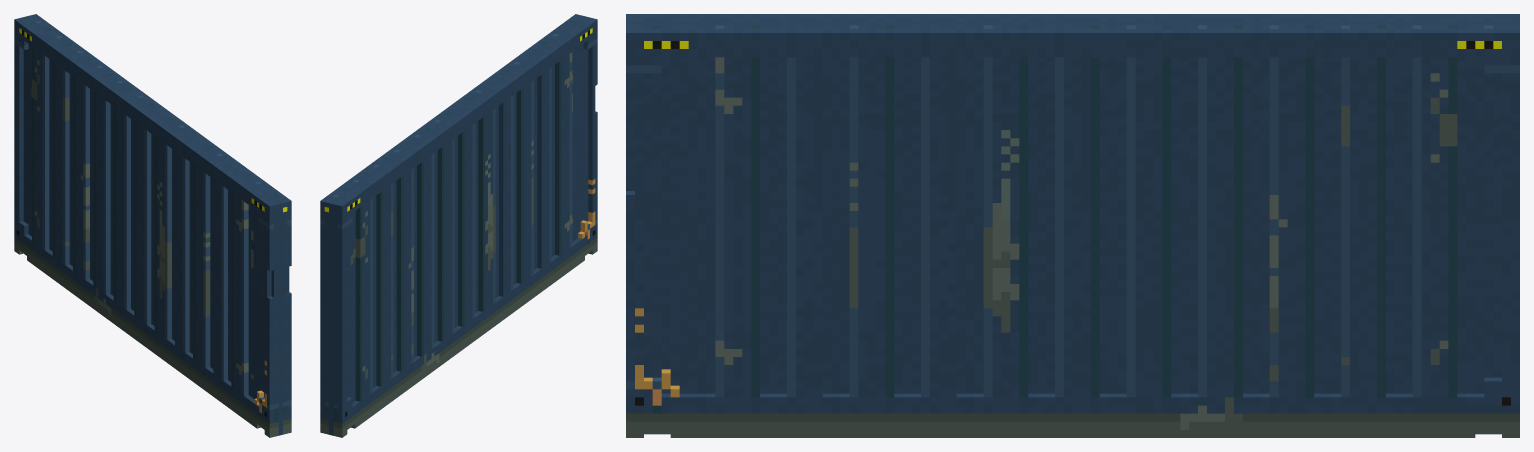
File: Bunker - Free Sample-87-Wall_Container_Blue-1.obj
3 renders of one model, left to right at view 1: azimuth 30°, elevation 25°; view 2: azimuth 150°, elevation 25°; view 3: azimuth 270°, elevation 25°, orthographic. The views are drawn at different scales.
Visible parts, largest first — view 1: Wall_Container_Blue-1; view 2: Wall_Container_Blue-1; view 3: Wall_Container_Blue-1.
Boxes of the visible parts, x1,y1,x2,y2 form: Wall_Container_Blue-1: (14,14,291,437); Wall_Container_Blue-1: (320,14,597,437); Wall_Container_Blue-1: (626,14,1519,437).
Bounding box in the file's own units: 0.1 × 1 × 2.
1 material, 1 textured.
